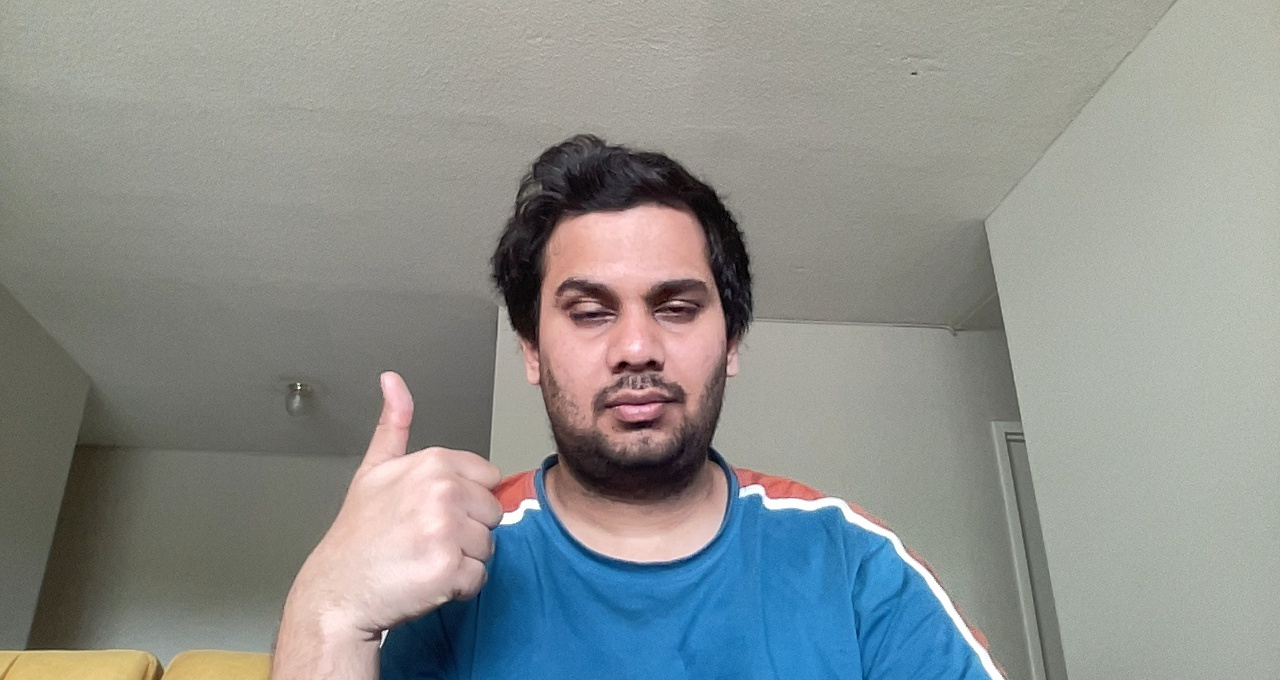thumbsup: (330, 357, 514, 625)
